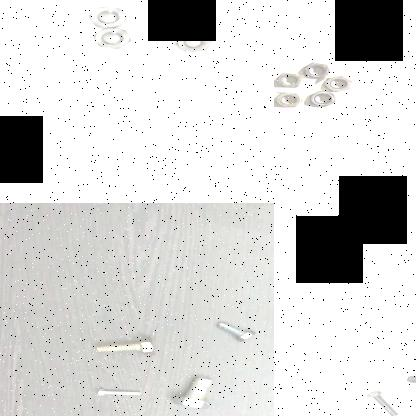Bolts: (169, 373, 216, 411), (90, 336, 160, 358), (205, 320, 262, 342), (363, 385, 401, 416), (90, 386, 144, 400), (396, 371, 416, 391)
NUTS: (170, 30, 214, 56), (83, 5, 127, 29), (91, 26, 132, 51), (298, 60, 330, 82), (306, 89, 336, 109), (322, 74, 353, 92), (163, 0, 206, 12), (274, 72, 306, 88), (274, 90, 301, 108)
